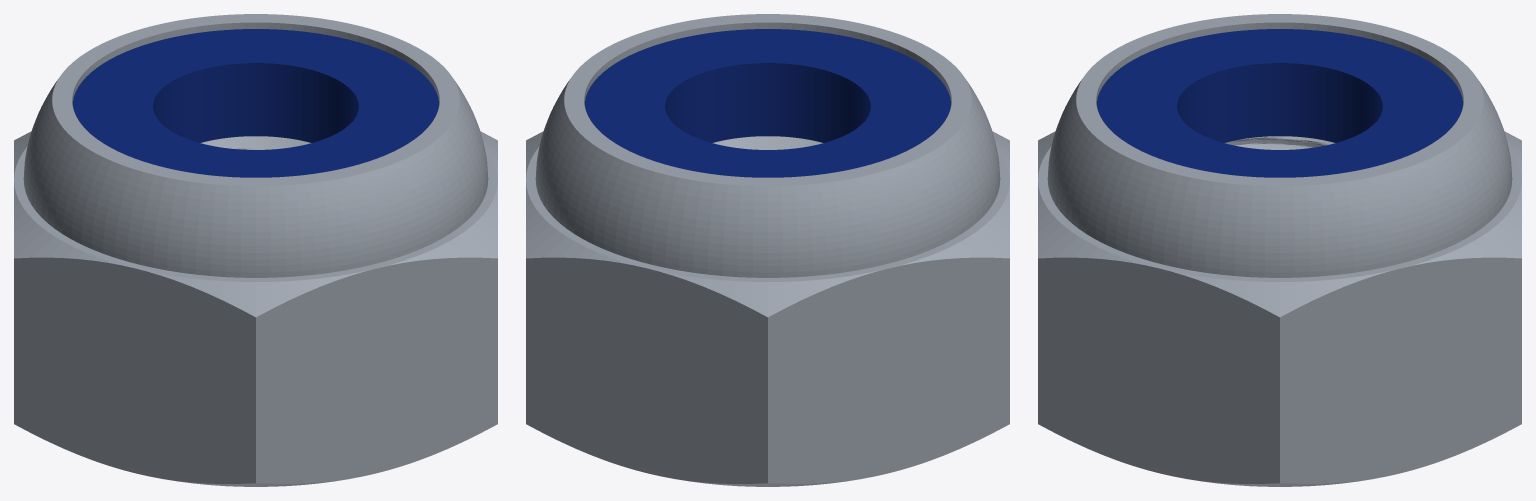
The model's file is model_full.glb.
The picture shows the model from 3 angles, left to right: view 1: azimuth 30°, elevation 25°; view 2: azimuth 150°, elevation 25°; view 3: azimuth 270°, elevation 25°; orthographic projection.
Parts seen in each view (by area): view 1: steel, nylon_insert; view 2: steel, nylon_insert; view 3: steel, nylon_insert.
Part boxes in pixels (left/top/right/bottom): steel: left=14, top=14, right=497, bottom=486; nylon_insert: left=72, top=29, right=439, bottom=177; steel: left=526, top=14, right=1009, bottom=486; nylon_insert: left=584, top=29, right=951, bottom=177; steel: left=1038, top=14, right=1521, bottom=486; nylon_insert: left=1096, top=29, right=1463, bottom=177.
Size of the model in its own units: 0.006 by 0.00338 by 0.0052.
